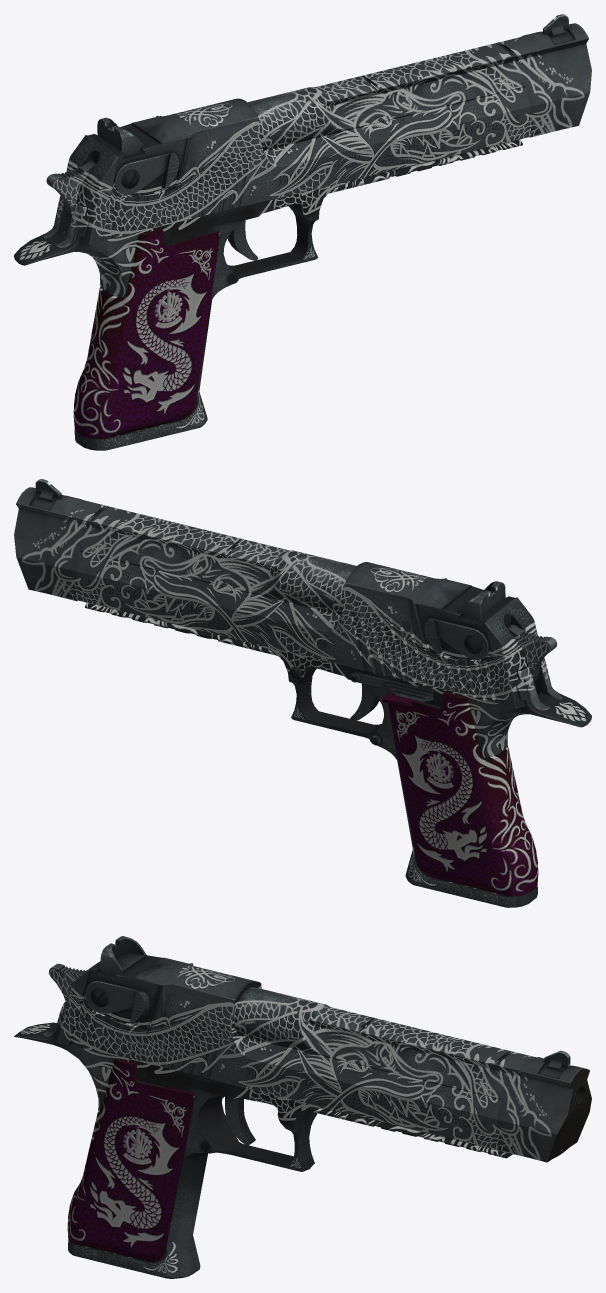
File: w_pistol50_kumichodragon.glb
3 views of the same model, one above another, from view 1: azimuth 30°, elevation 25°; view 2: azimuth 150°, elevation 25°; view 3: azimuth 330°, elevation 25° (orthographic).
Visible parts, largest first — view 1: Gun_Root; view 2: Gun_Root; view 3: Gun_Root.
Boxes of the visible parts, bbox=[...] form: Gun_Root: bbox=[14, 14, 591, 450]; Gun_Root: bbox=[14, 479, 591, 907]; Gun_Root: bbox=[14, 936, 591, 1278].
Size of the model in its own units: 0.2842 by 0.1495 by 0.033.
1 material, 1 textured.
